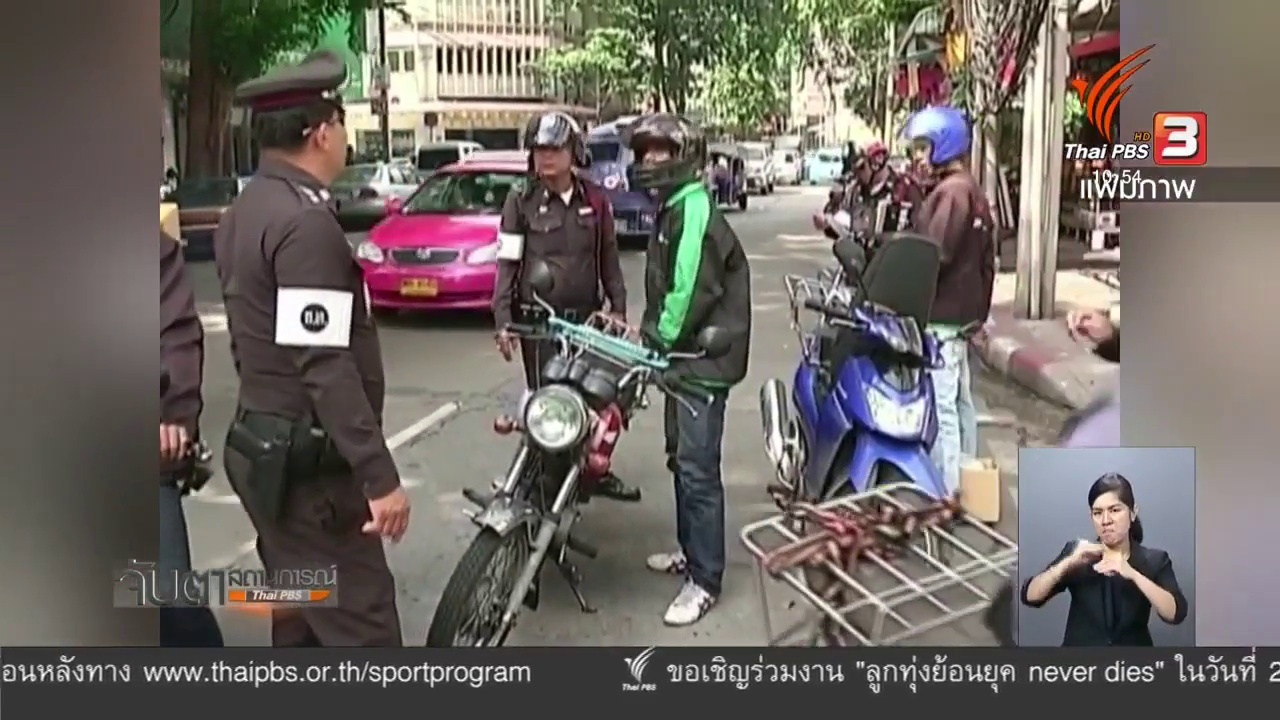helmet: (626, 107, 714, 184), (904, 109, 981, 169), (517, 107, 580, 167)
